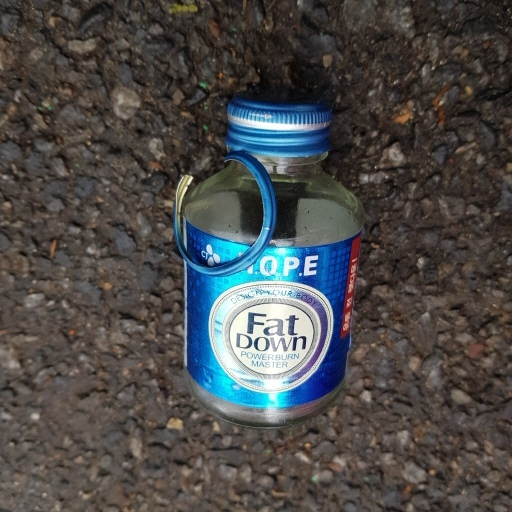Glass_4: (173, 87, 372, 426)
